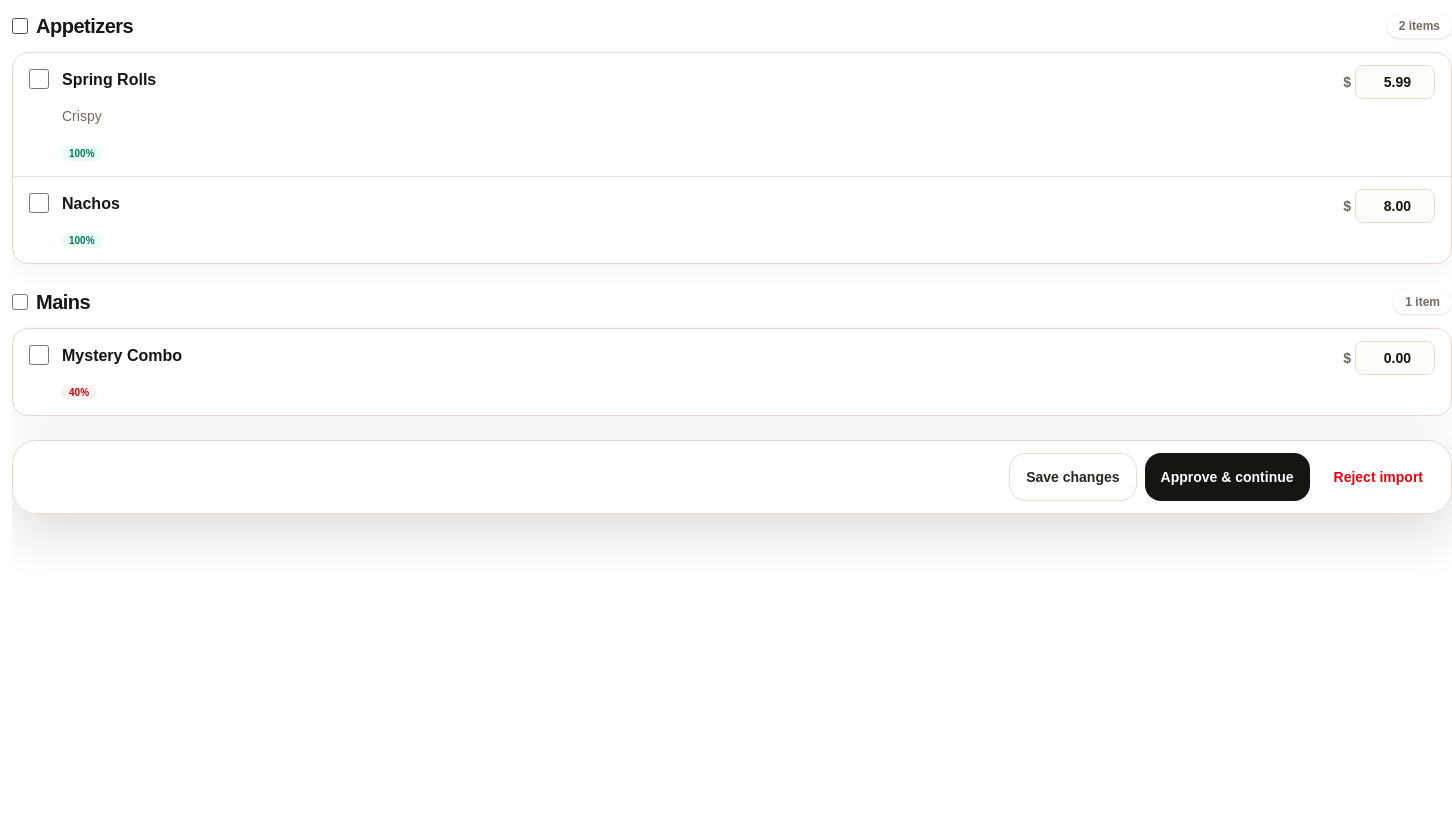
Test: ReviewEditor — bulk selection (Sprint 18 Part 5) › bulk-moves selected items to a different category
Click the checkbox named "Select Mystery Combo" at {"x": 39, "y": 355}, box [29,345,49,365]
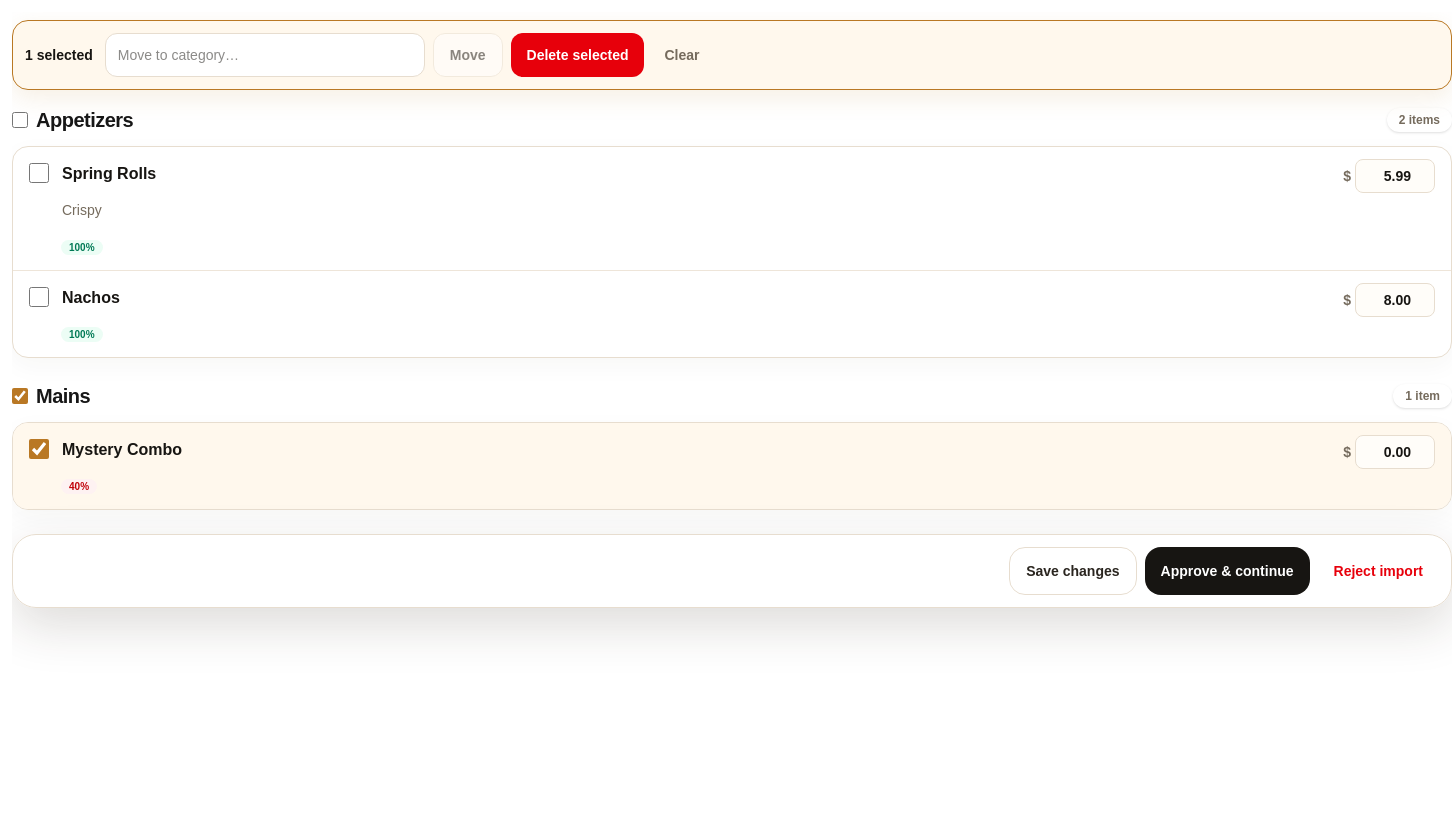
Type "Appetizers" into the field with placeholder "Move to category…" at {"x": 265, "y": 55}, box [105,33,425,77]
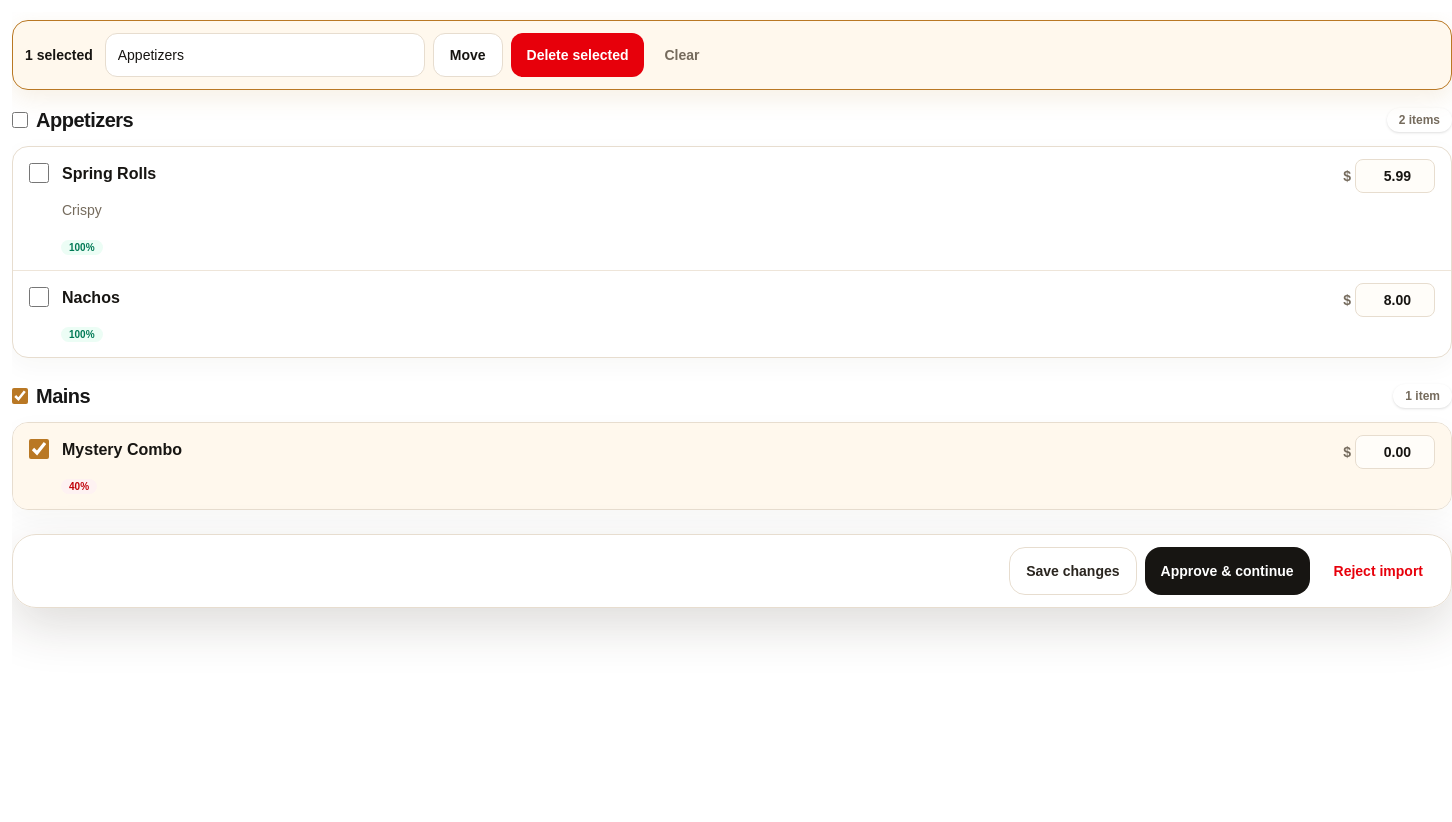
Click the button "Move" at {"x": 468, "y": 55}, box [433,33,502,77]
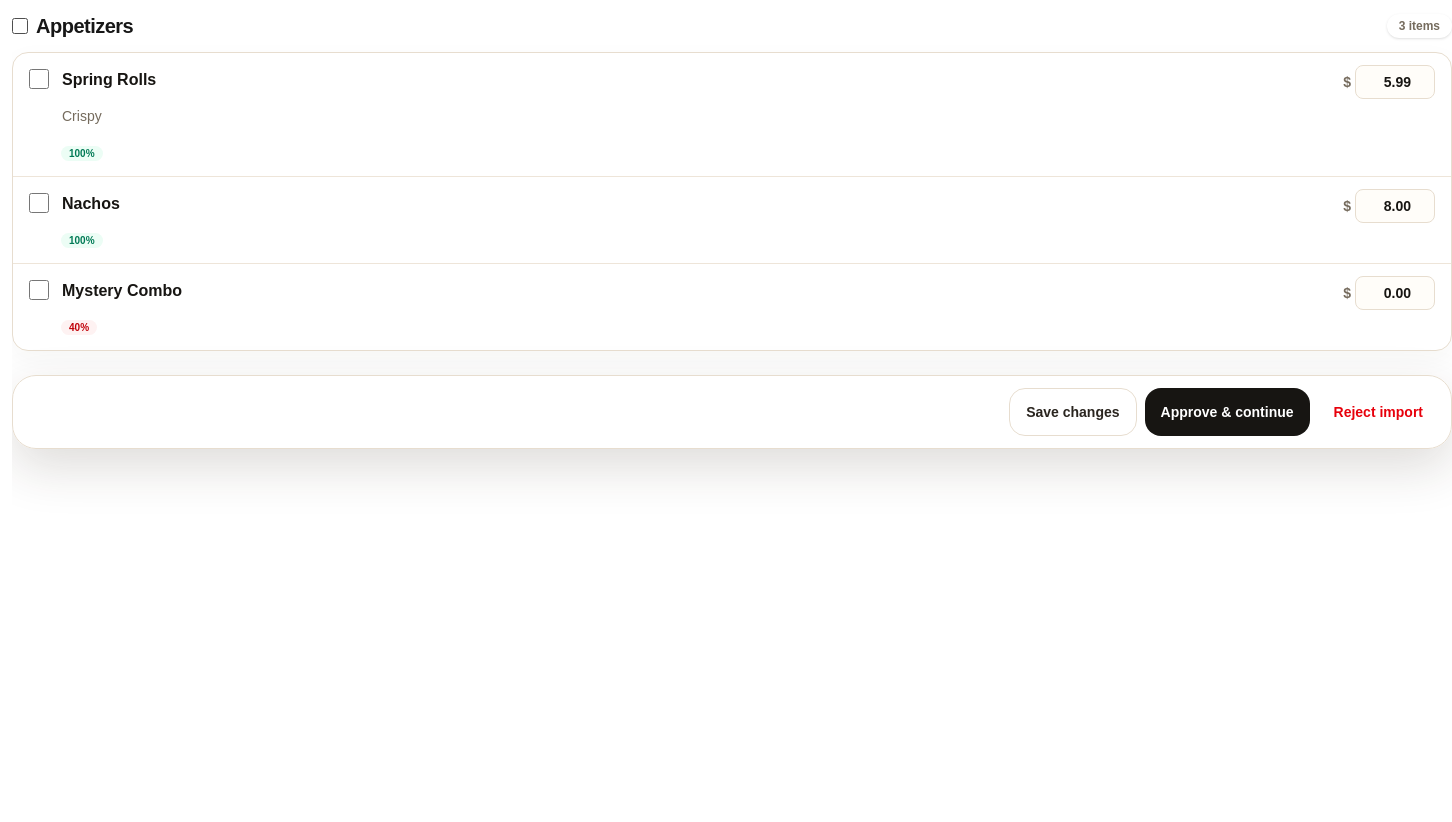
Result: the text "3 items" is shown once at [1387,14,1451,38]
